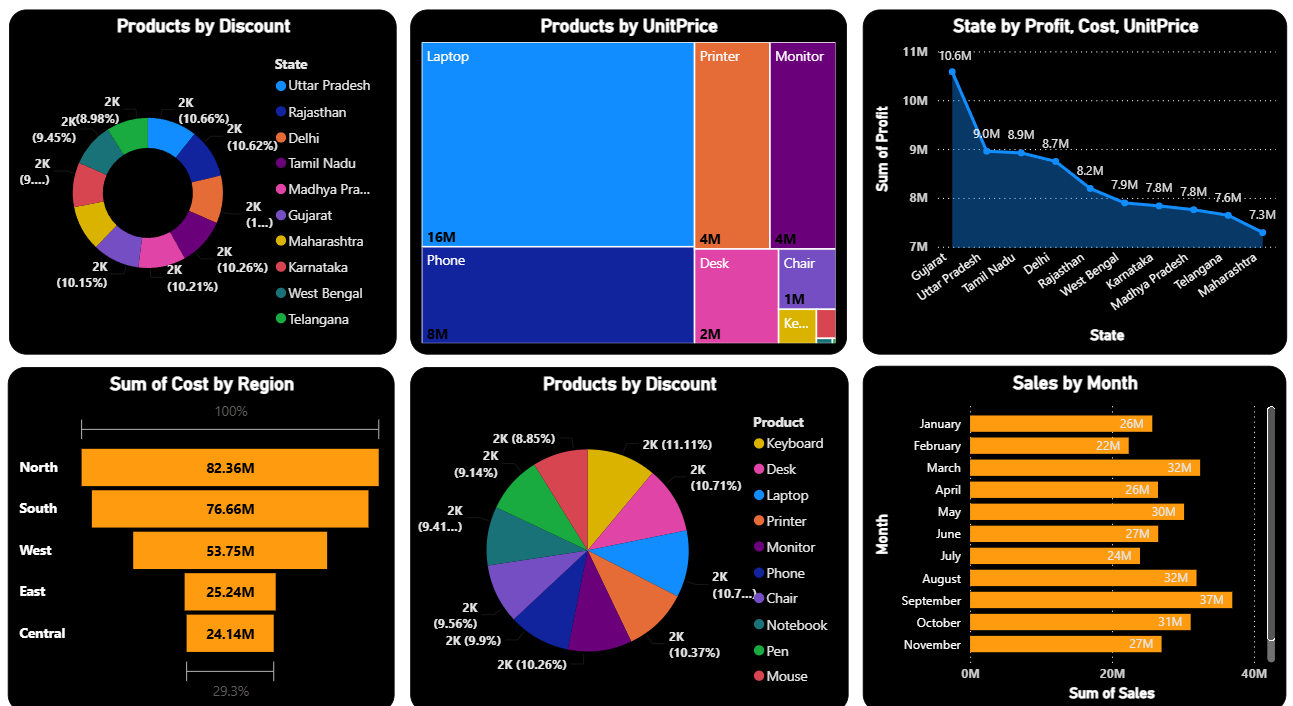

The page's visual inventory and layout, read from the dashboard file:
{"tool":"powerbi","page":{"name":"City,Region,State","canvas":[1280,720],"ordinal":2},"visuals":[{"type":"funnel","fields":{"Category":["Sales_Data.Region","Sales_Data.Discount"],"Y":["Sum(Sales_Data.Cost)"]},"box":[13.7,371.9,378.7,337.6],"z":0},{"type":"treemap","title":"Products by UnitPrice","fields":{"Group":["Sales_Data.Product"],"Values":["Sum(Sales_Data.UnitPrice)"]},"box":[407.8,22.1,427.3,337.7],"z":1000},{"type":"pieChart","title":"Products by Discount","fields":{"Category":["Sales_Data.Product"],"Y":["Sum(Sales_Data.Discount)"]},"box":[407.8,371.4,428.6,337.7],"z":2000},{"type":"areaChart","title":"State by Profit, Cost, UnitPrice","fields":{"Y":["Sum(Sales_Data.Profit)"],"Category":["Sales_Data.State"]},"box":[849.4,22.1,415.6,337.7],"z":3000},{"type":"clusteredBarChart","title":"Sales by Month","fields":{"Category":["Sales_Data.OrderDate.Variation.Date Hierarchy.Month"],"Y":["Sum(Sales_Data.Sales)"]},"box":[849.9,370.5,414.5,338.7],"z":4000},{"type":"donutChart","title":"Products by Discount","fields":{"Category":["Sales_Data.State"],"Y":["Sum(Sales_Data.Discount)"]},"box":[14.3,22.1,379.2,337.7],"z":5000}]}

Visuals, with their boxes on the page's 1280x720 design canvas (x1, y1, x2, y2). These are canvas units, not pixel positions in the 1293x706 screenshot, which may show the page scaled, cropped or inside an application window:
funnel - Sales_Data.Region x Sales_Data.Discount: locate(14, 372, 392, 710)
"Products by UnitPrice" treemap: locate(408, 22, 835, 360)
"Products by Discount" pieChart: locate(408, 371, 836, 709)
"State by Profit, Cost, UnitPrice" areaChart: locate(849, 22, 1265, 360)
"Sales by Month" clusteredBarChart: locate(850, 370, 1264, 709)
"Products by Discount" donutChart: locate(14, 22, 394, 360)
